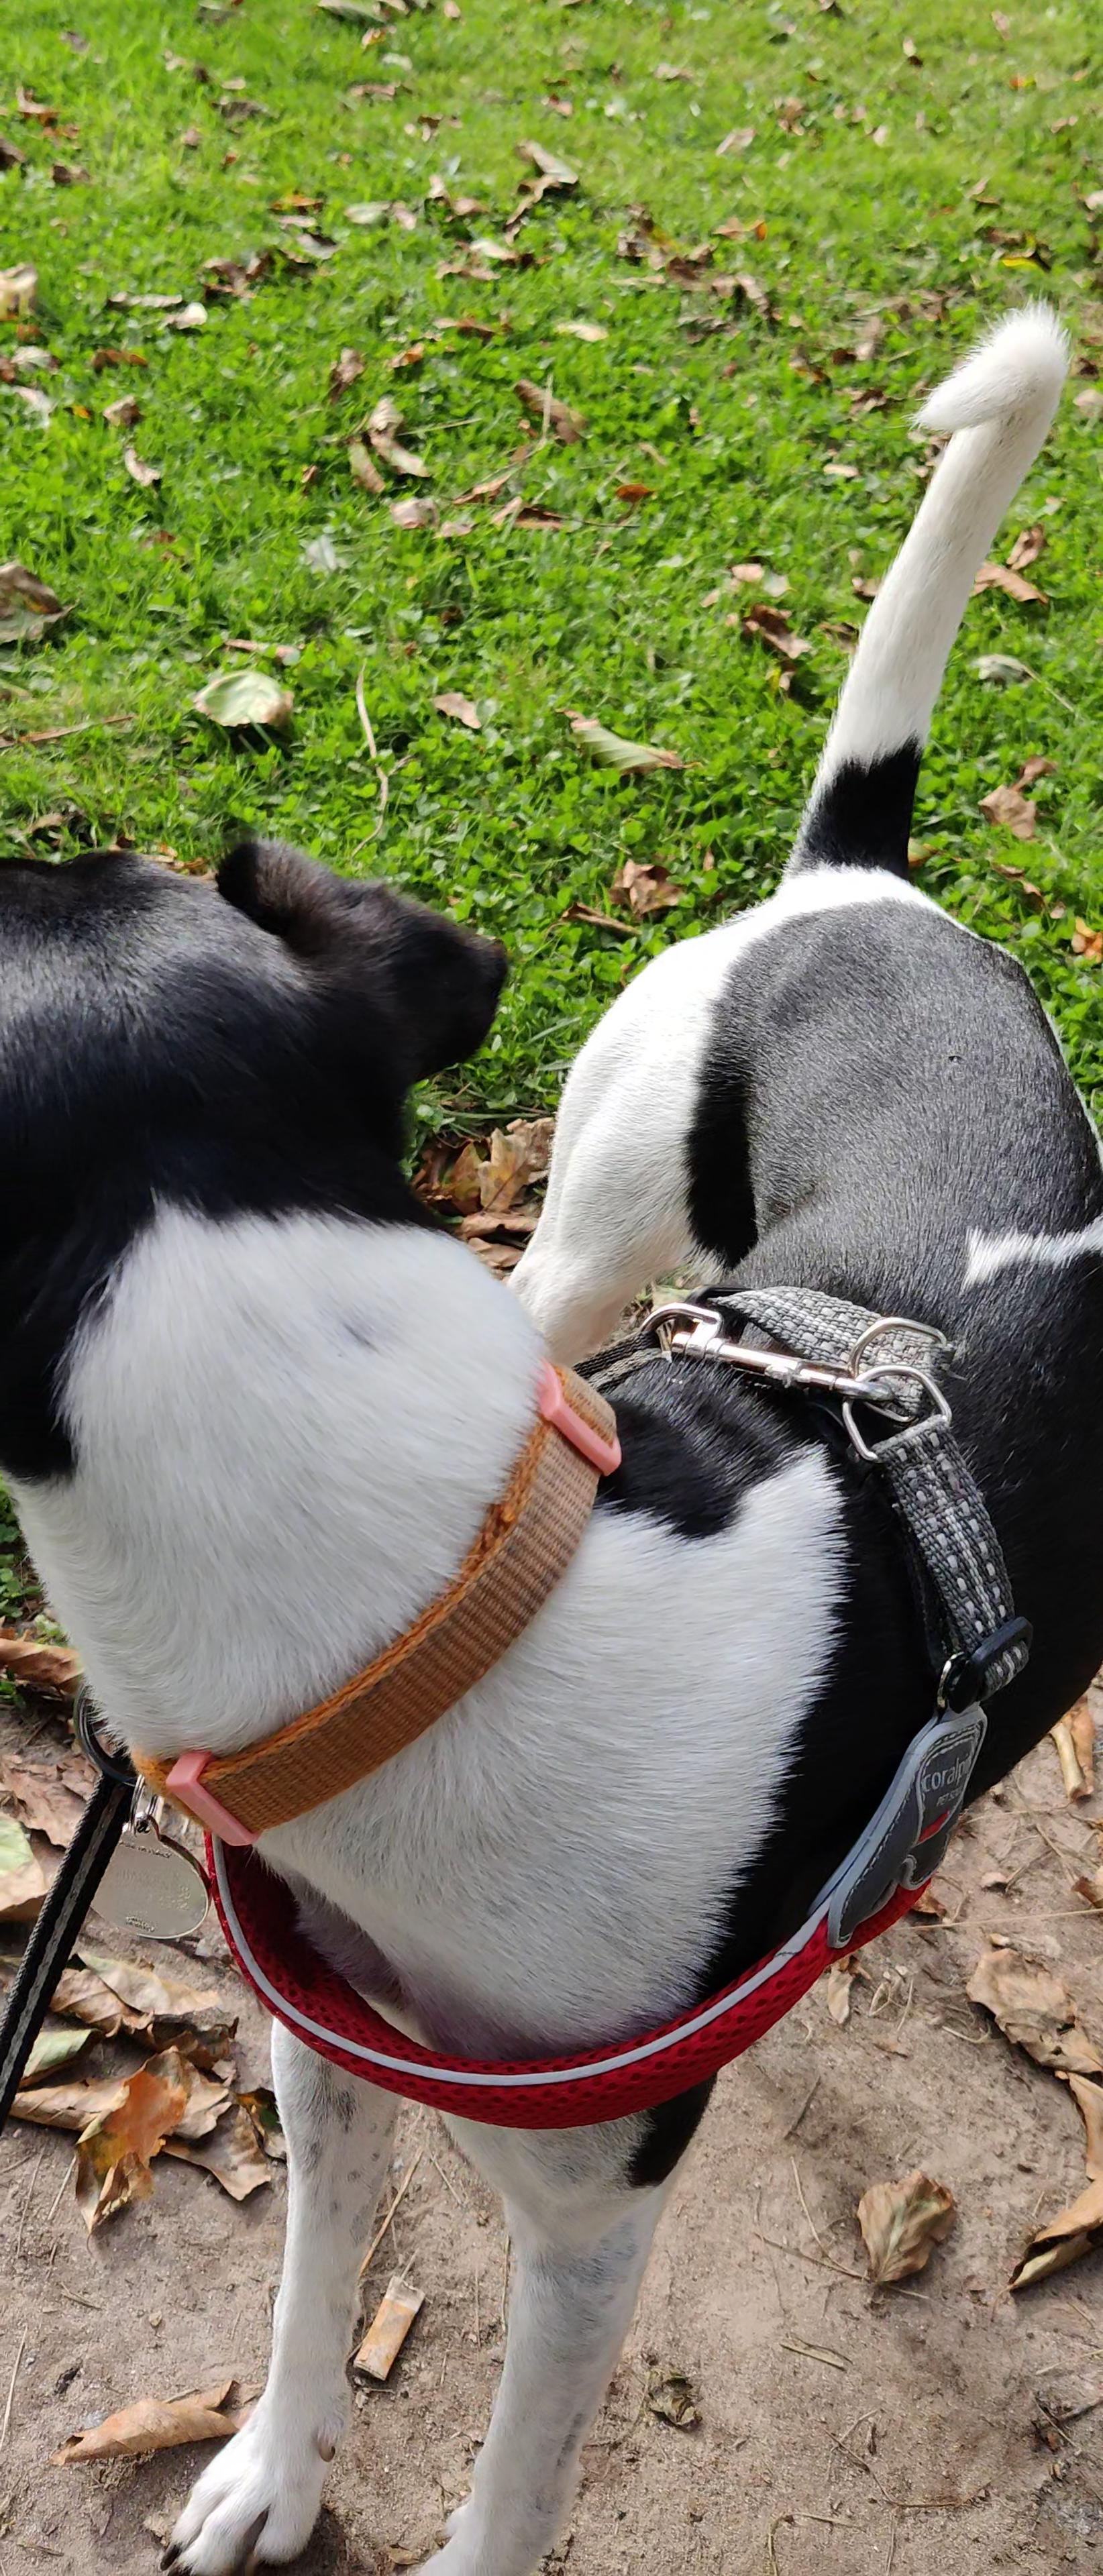Dog: (0, 279, 1103, 2576)
